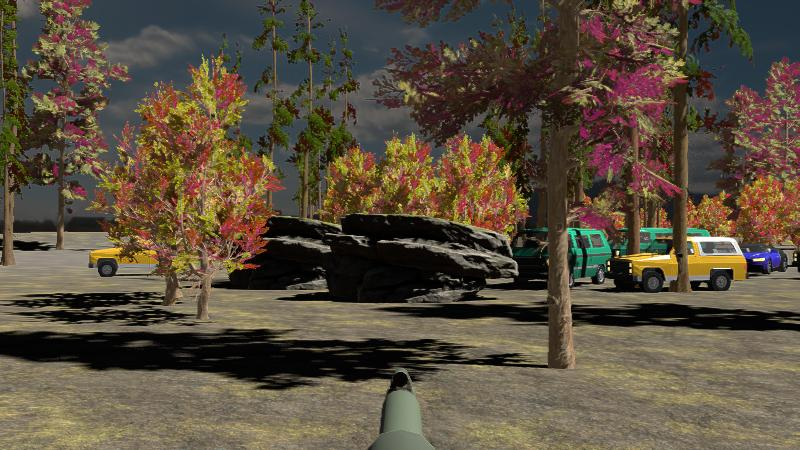car: (612, 237, 748, 292), (513, 226, 612, 285), (87, 234, 176, 277), (611, 226, 714, 257), (742, 242, 786, 275)
